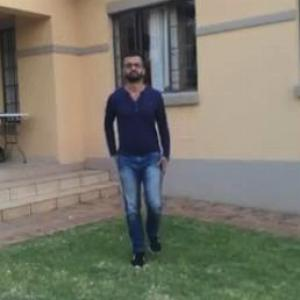follow: (104, 42, 168, 236)
